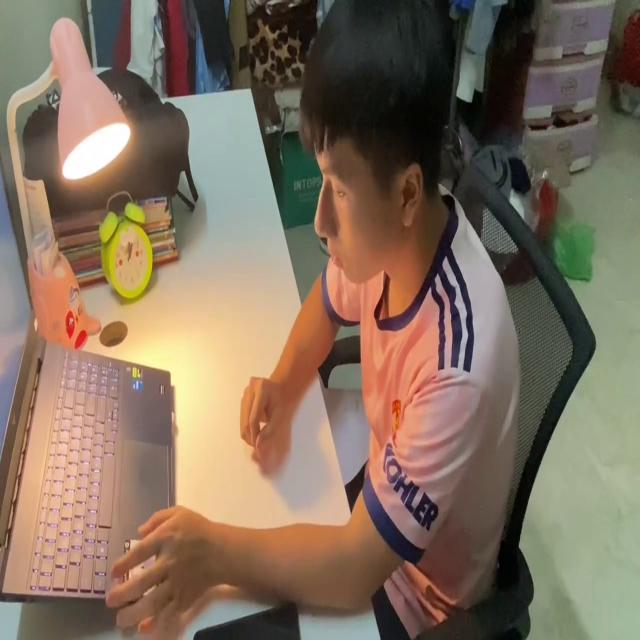book: (316, 372, 370, 490)
laptop: (0, 159, 181, 603)
phone: (191, 586, 304, 640)
student: (110, 0, 519, 640)
